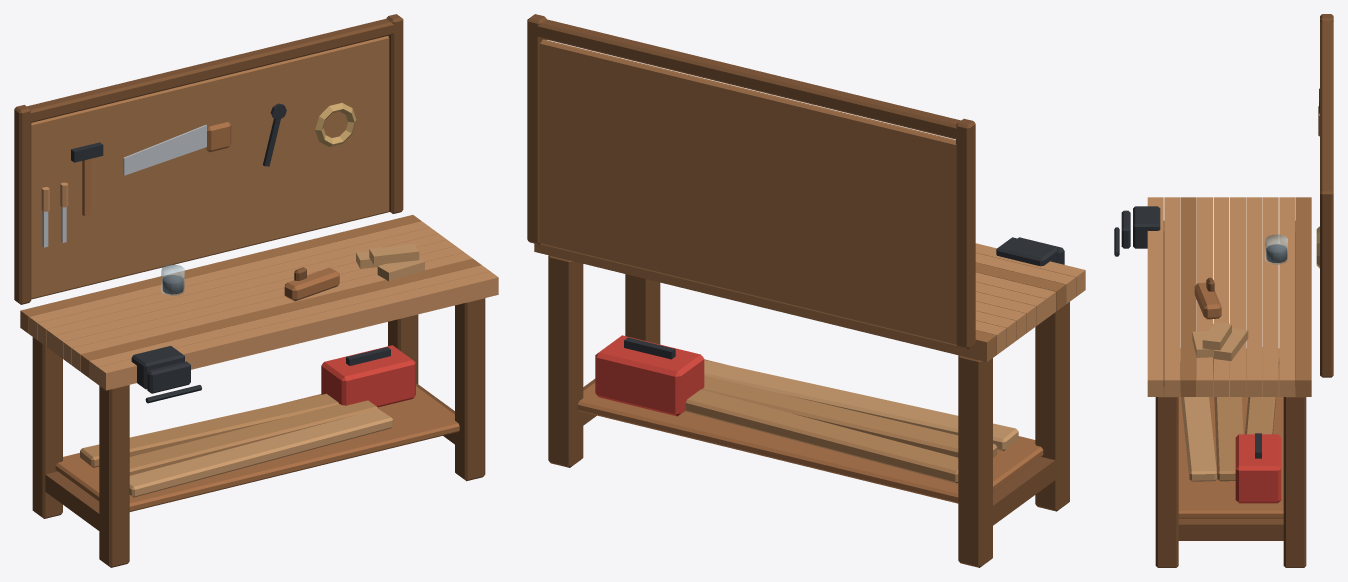
The model's file is workbench.glb.
3 views of the same model, side by side, from view 1: azimuth 30°, elevation 25°; view 2: azimuth 150°, elevation 25°; view 3: azimuth 270°, elevation 25° (orthographic). The views are drawn at different scales.
Parts seen in each view (by area): view 1: workbench; view 2: workbench; view 3: workbench.
Boxes of the visible parts, x1,y1,x2,y2 form: workbench: [14, 14, 498, 567]; workbench: [527, 14, 1085, 567]; workbench: [1114, 14, 1333, 567].
Bounding box in the file's own units: 1.9 × 1.83 × 0.962.
